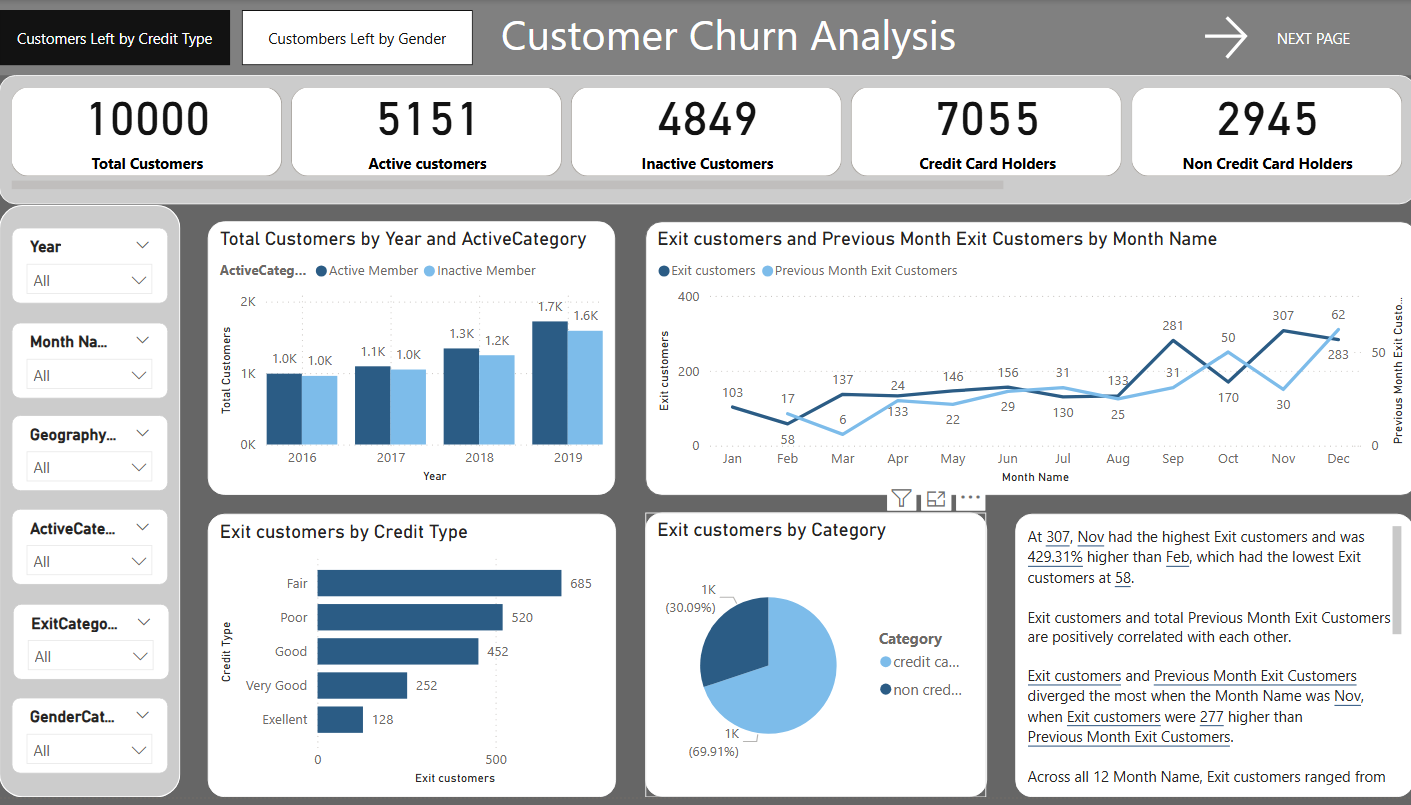

The dashboard page shown, as its layout file describes it:
{"tool":"powerbi","page":{"name":"HOMEPAGE","canvas":[1280,720],"ordinal":0},"visuals":[{"type":"textbox","box":[0,0,1278.3,68],"z":0},{"type":"cardVisual","fields":{"Data":["Calculations.Total Customers","Calculations.Active customers","Calculations.Inactive Customers","Calculations.Credit Card Holders","Calculations.Non Credit Card Holders","Calculations.Exit customers","Calculations.Retain customers"]},"box":[0,68.3,1279.8,116.7],"z":1000},{"type":"shape","box":[0,185,163.8,535],"z":2000},{"type":"slicer","fields":{"Values":["DateMaster.Year"]},"box":[11,205.8,141.3,68.6],"z":3000},{"type":"slicer","fields":{"Values":["DateMaster.Month Name"]},"box":[11,290.9,141.3,68.6],"z":4000},{"type":"slicer","fields":{"Values":["Geography.GeographyLocation"]},"box":[11,375,141.3,68.6],"z":5000},{"type":"slicer","fields":{"Values":["ActiveCustomer.ActiveCategory"]},"box":[11,460,141.3,68.6],"z":6000},{"type":"slicer","fields":{"Values":["ExitCustomer.ExitCategory"]},"box":[12.3,545,141.3,68.6],"z":7000},{"type":"slicer","fields":{"Values":["Gender.GenderCategory"]},"box":[11,630,141.3,68.6],"z":8000},{"type":"clusteredColumnChart","fields":{"Category":["DateMaster.Year","DateMaster.Month Name"],"Y":["Calculations.Total Customers"],"Series":["ActiveCustomer.ActiveCategory"]},"box":[189,200,368,247.3],"z":9000},{"type":"lineChart","fields":{"Y":["Calculations.Exit customers"],"Y2":["Calculations.Previous Month Exit Customers"],"Category":["DateMaster.Month Name"]},"box":[583.4,199.8,697.6,248.3],"z":10000},{"type":"clusteredBarChart","fields":{"Category":["Bank_Churn.Credit Type"],"Y":["Calculations.Exit customers"]},"box":[188.7,464.3,368.7,255.7],"z":12000},{"type":"pieChart","fields":{"Category":["CreditCard.Category"],"Y":["Calculations.Exit customers"]},"box":[583.4,463,309.1,256.9],"z":13000},{"type":"textbox","box":[918.6,464.3,360,256],"z":14000},{"type":"bookmarkNavigator","box":[0,8.7,429.5,50.6],"z":15000},{"type":"actionButton","title":"nextpage","box":[1082.4,8.7,141.5,49.7],"z":16000}]}

Visuals, with their boxes in screenshot pixels (x1, y1, x2, y2), scaled from the page's 1280x720 canvas onto the 1411x805 screenshot:
textbox: (x1=0, y1=0, x2=1409, y2=76)
cardVisual - Calculations.Total Customers x Calculations.Active customers: (x1=0, y1=76, x2=1410, y2=207)
shape: (x1=0, y1=207, x2=181, y2=804)
slicer - DateMaster.Year: (x1=12, y1=230, x2=168, y2=307)
slicer - DateMaster.Month Name: (x1=12, y1=325, x2=168, y2=402)
slicer - Geography.GeographyLocation: (x1=12, y1=419, x2=168, y2=496)
slicer - ActiveCustomer.ActiveCategory: (x1=12, y1=514, x2=168, y2=591)
slicer - ExitCustomer.ExitCategory: (x1=14, y1=609, x2=169, y2=686)
slicer - Gender.GenderCategory: (x1=12, y1=704, x2=168, y2=781)
clusteredColumnChart - DateMaster.Year x DateMaster.Month Name: (x1=208, y1=224, x2=614, y2=500)
lineChart - Calculations.Exit customers x Calculations.Previous Month Exit Customers: (x1=643, y1=223, x2=1410, y2=501)
clusteredBarChart - Bank_Churn.Credit Type x Calculations.Exit customers: (x1=208, y1=519, x2=614, y2=804)
pieChart - CreditCard.Category x Calculations.Exit customers: (x1=643, y1=518, x2=984, y2=804)
textbox: (x1=1013, y1=519, x2=1409, y2=804)
bookmarkNavigator: (x1=0, y1=10, x2=473, y2=66)
"nextpage" actionButton: (x1=1193, y1=10, x2=1349, y2=65)
